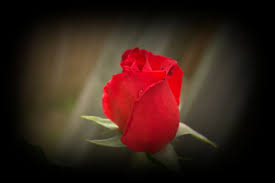rose: (100, 41, 186, 159)
